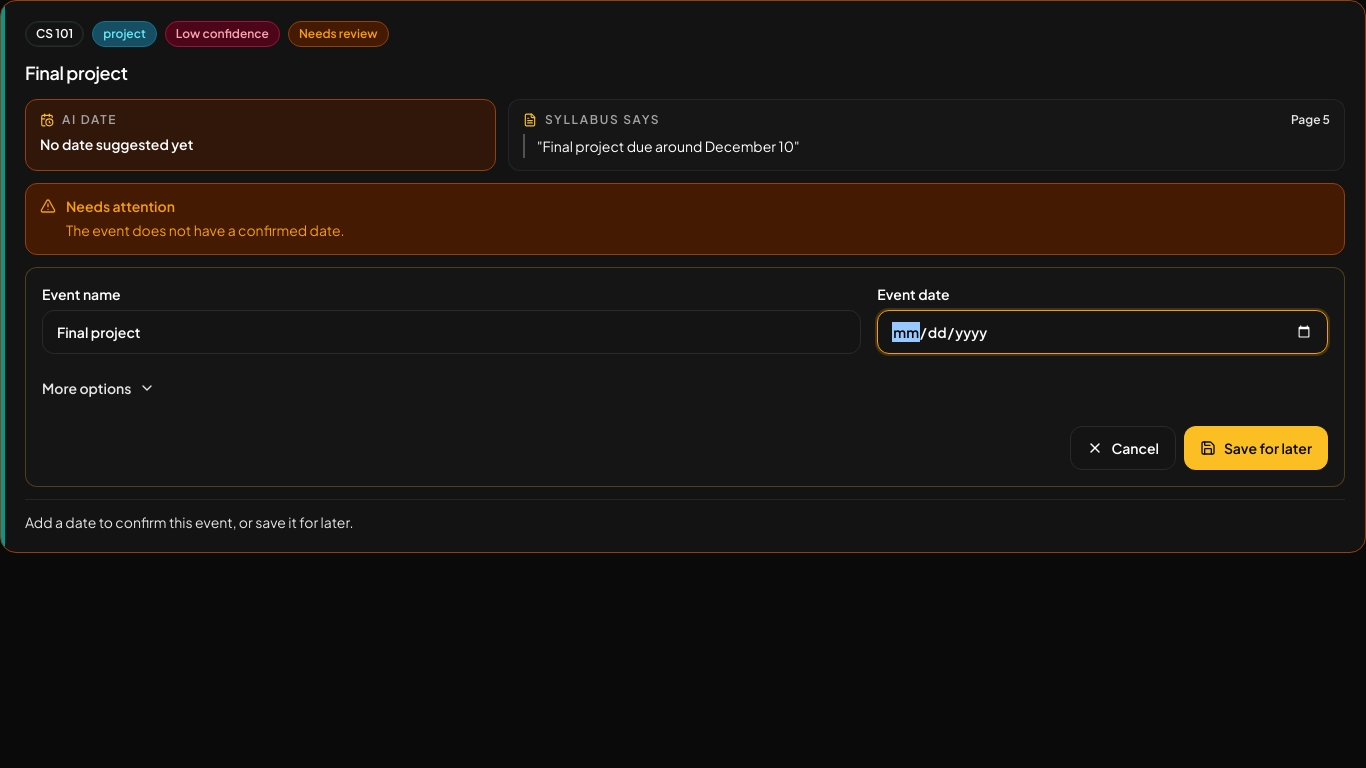
Test: shows Save for later in the editor for undated needs review events and closes after saving
expect the button "Save for later" is shown: met, box top-left (1184, 426), bottom-right (1328, 470)
Replace the text in the field labelled "Event name" with "Final project follow-up" at point(452, 332), box top-left (42, 310), bottom-right (861, 354)
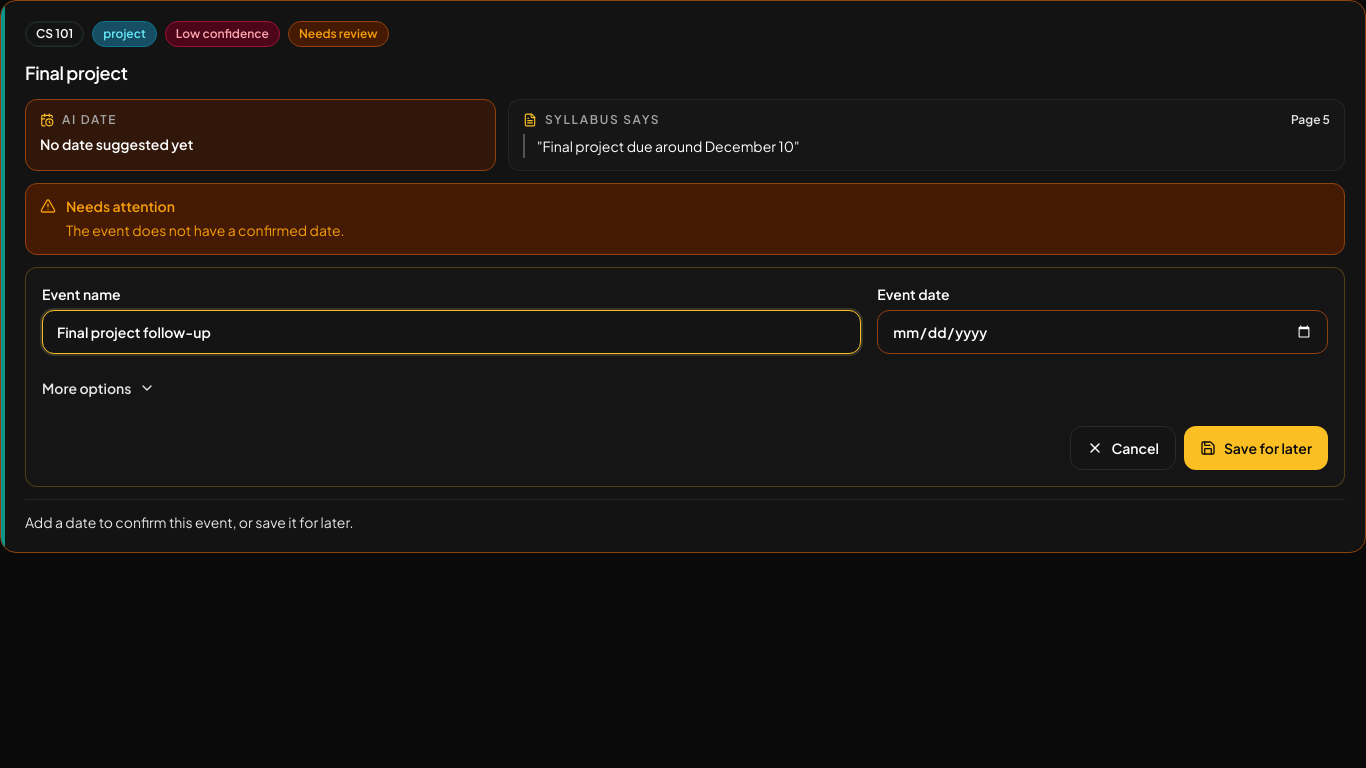
Click the button "Save for later".
click(1256, 448)  # box top-left (1184, 426), bottom-right (1328, 470)
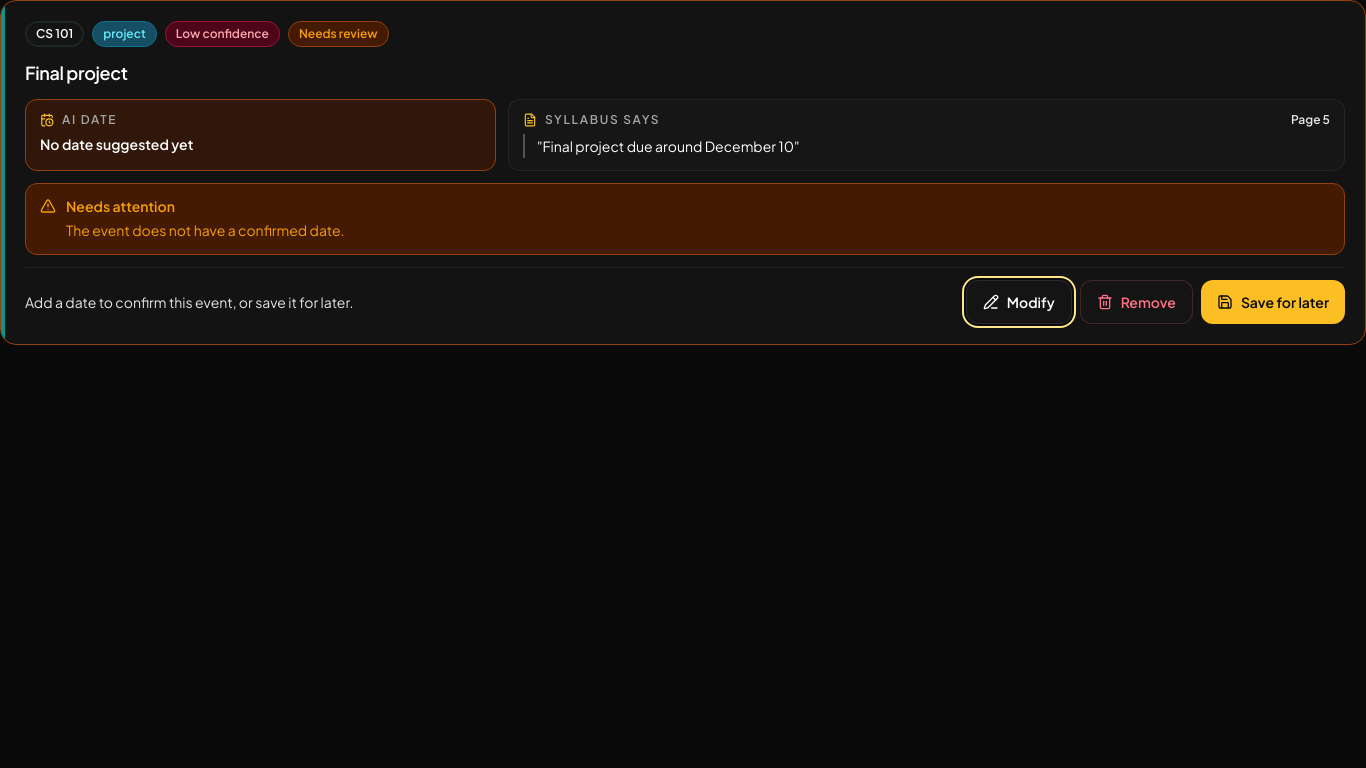
expect the label labelled "Event name" is gone: met
